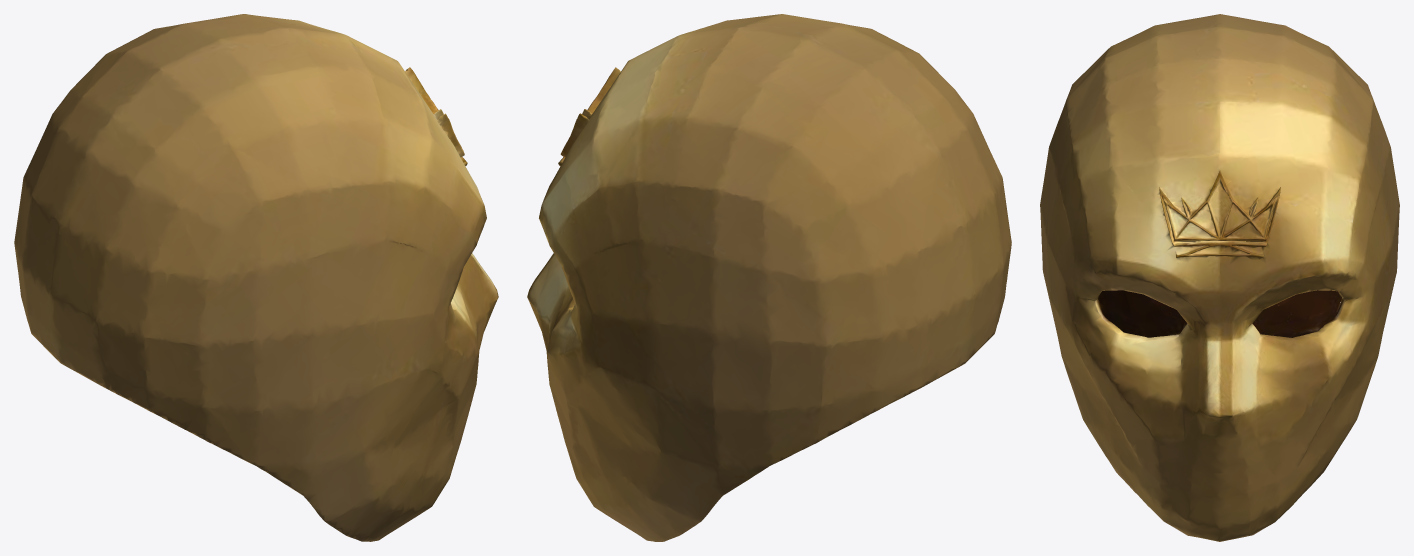
The model's file is mascara_coroa.glb.
The picture shows the model from 3 angles, left to right: view 1: azimuth 30°, elevation 25°; view 2: azimuth 150°, elevation 25°; view 3: azimuth 270°, elevation 25°; orthographic projection. The views are drawn at different scales.
Parts seen in each view (by area): view 1: tripo_node_4dff8b60-0114-4d1c-bb97-f9285b744e84; view 2: tripo_node_4dff8b60-0114-4d1c-bb97-f9285b744e84; view 3: tripo_node_4dff8b60-0114-4d1c-bb97-f9285b744e84.
Boxes of the visible parts, x1,y1,x2,y2 form: tripo_node_4dff8b60-0114-4d1c-bb97-f9285b744e84: (14,14,498,541); tripo_node_4dff8b60-0114-4d1c-bb97-f9285b744e84: (527,14,1011,541); tripo_node_4dff8b60-0114-4d1c-bb97-f9285b744e84: (1040,14,1399,541).
Size of the model in its own units: 0.8993 by 0.9998 by 0.7296.
Materials: 1 (1 with a texture image).
